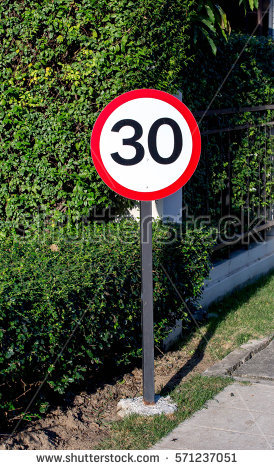Speed_limit_30km: (90, 89, 202, 203)
